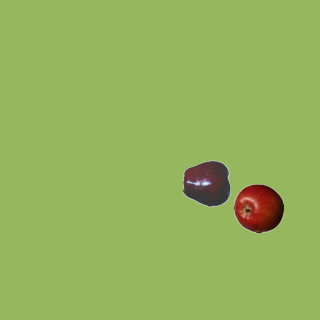Apple Braeburn: (233, 183, 283, 233)
Apple Red Delicious: (182, 158, 232, 208)
